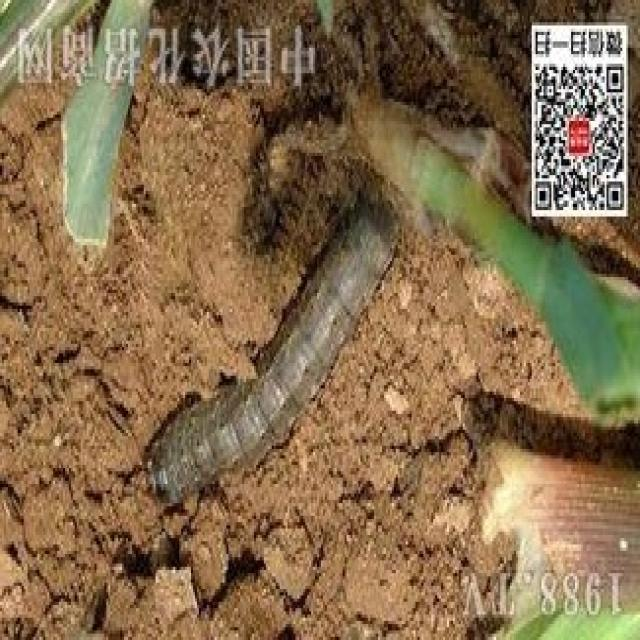black cutworm: (140, 198, 398, 517)
